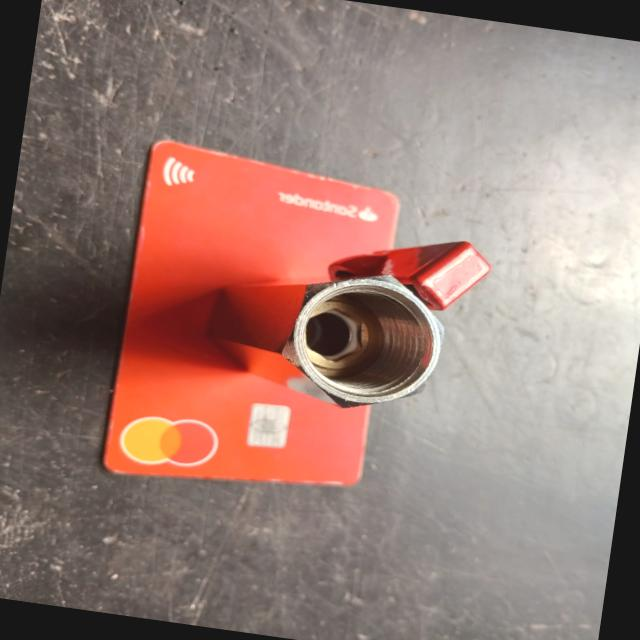cartao: (106, 139, 409, 506)
rosca_interna: (198, 208, 492, 424)
